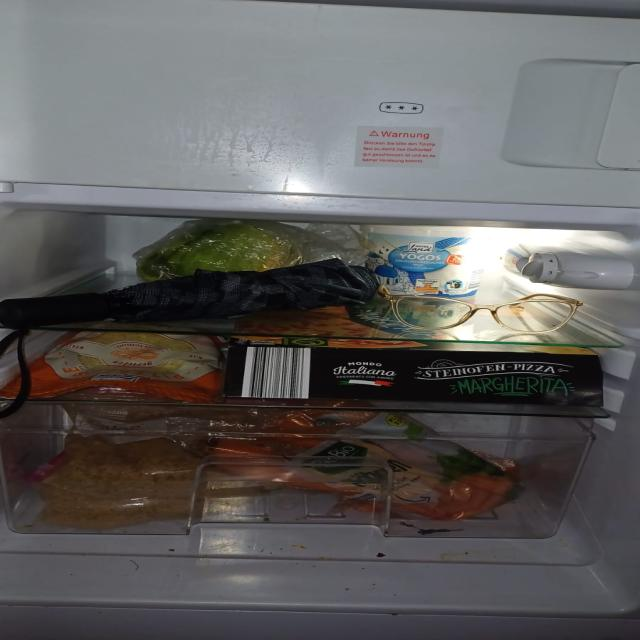Cheese: (27, 328, 221, 397)
Pizza: (230, 329, 609, 408)
Plastic bag: (36, 403, 232, 522)
Spectacular: (372, 285, 592, 339)
Umbrella: (0, 259, 353, 329)
Yogurt: (349, 223, 485, 295)
cabbage: (160, 219, 326, 278)
carrots: (212, 413, 516, 526)
